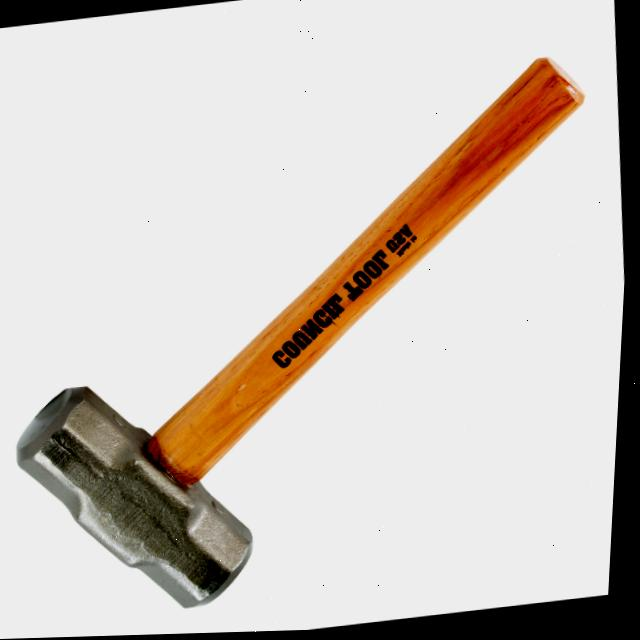hammer: (0, 38, 636, 638)
